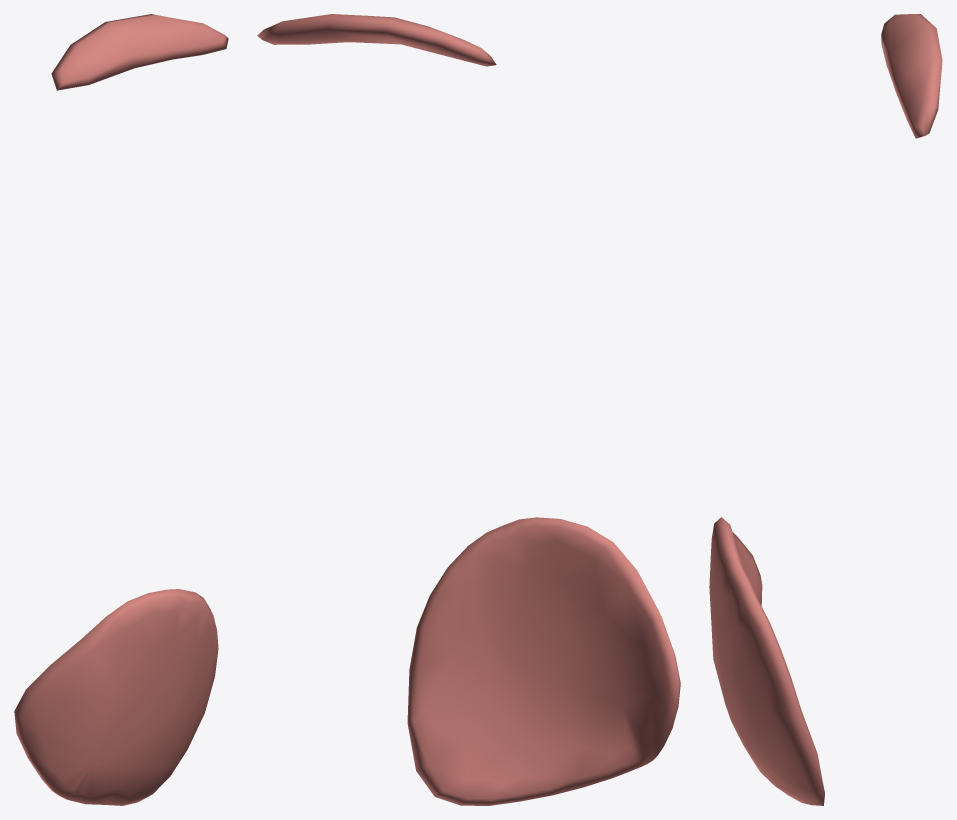
3 views of the same model, side by side, from view 1: azimuth 30°, elevation 25°; view 2: azimuth 150°, elevation 25°; view 3: azimuth 270°, elevation 25° (orthographic). The views are drawn at different scales.
Parts seen in each view (by area): view 1: ZA_07f3785f216962f9; view 2: ZA_07f3785f216962f9; view 3: ZA_07f3785f216962f9.
Boxes of the visible parts, x1,y1,x2,y2 form: ZA_07f3785f216962f9: [14, 14, 228, 805]; ZA_07f3785f216962f9: [257, 14, 680, 805]; ZA_07f3785f216962f9: [709, 14, 942, 805].
Size of the model in its own units: 0.00839 by 0.0199 by 0.00537.
